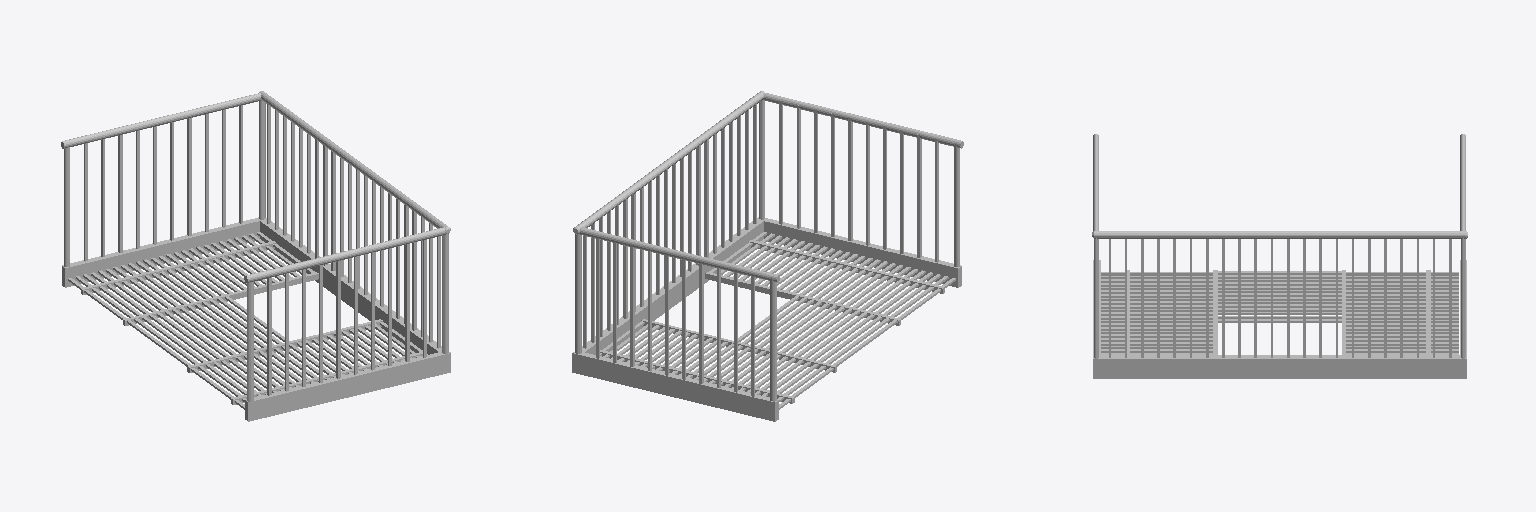
File: balcony.obj
3 views of the same model, side by side, from view 1: azimuth 30°, elevation 25°; view 2: azimuth 150°, elevation 25°; view 3: azimuth 270°, elevation 25° (orthographic).
Visible parts, largest first — view 1: Cube.018, Cube.022, Cube.019, Cube.020, Cube.021, Cube.017, Cube.023, Cube.016, Cube.015, Cylinder.011, Cylinder.012, Cylinder.013 (+8 smaller); view 2: Cube.018, Cube.021, Cube.019, Cube.020, Cube.022, Cube.016, Cube.023, Cube.017, Cube.015, Cylinder.011, Cylinder.013, Cylinder.012 (+8 smaller); view 3: Cube.015, Cube.021, Cube.022, Cube.018, Cube.023, Cylinder.011, Cylinder.007, Cylinder.008, Cylinder.012, Cylinder.013.
Part boxes in pixels (x1,y1,x2,y2): Cube.018: (267, 104, 440, 348); Cube.022: (68, 232, 315, 319); Cube.019: (267, 240, 426, 395); Cube.020: (84, 105, 242, 261); Cube.021: (191, 322, 427, 409); Cube.017: (245, 352, 442, 421); Cube.023: (127, 296, 284, 366); Cube.016: (62, 218, 259, 287); Cube.015: (257, 217, 450, 373); Cylinder.011: (259, 91, 450, 233); Cylinder.012: (244, 227, 445, 282); Cylinder.013: (61, 93, 261, 148); Cube.018: (583, 104, 756, 348); Cube.021: (709, 232, 955, 319); Cube.019: (779, 101, 938, 262); Cube.020: (596, 238, 754, 396); Cube.022: (600, 321, 833, 409); Cube.016: (581, 352, 778, 421); Cube.023: (738, 296, 897, 366); Cube.017: (764, 218, 961, 287); Cube.015: (572, 217, 766, 374); Cylinder.011: (573, 91, 764, 234); Cylinder.013: (580, 227, 779, 282); Cylinder.012: (763, 93, 963, 148); Cube.015: (1093, 355, 1466, 378); Cube.021: (1101, 272, 1212, 354); Cube.022: (1346, 272, 1458, 354); Cube.018: (1109, 239, 1451, 357); Cube.023: (1218, 271, 1341, 322); Cylinder.011: (1092, 231, 1467, 238); Cylinder.007: (1094, 238, 1098, 358); Cylinder.008: (1461, 238, 1465, 358); Cylinder.012: (1093, 134, 1098, 230); Cylinder.013: (1460, 134, 1465, 230).
Bounding box in the file's own units: 1.25 × 0.8574 × 2.